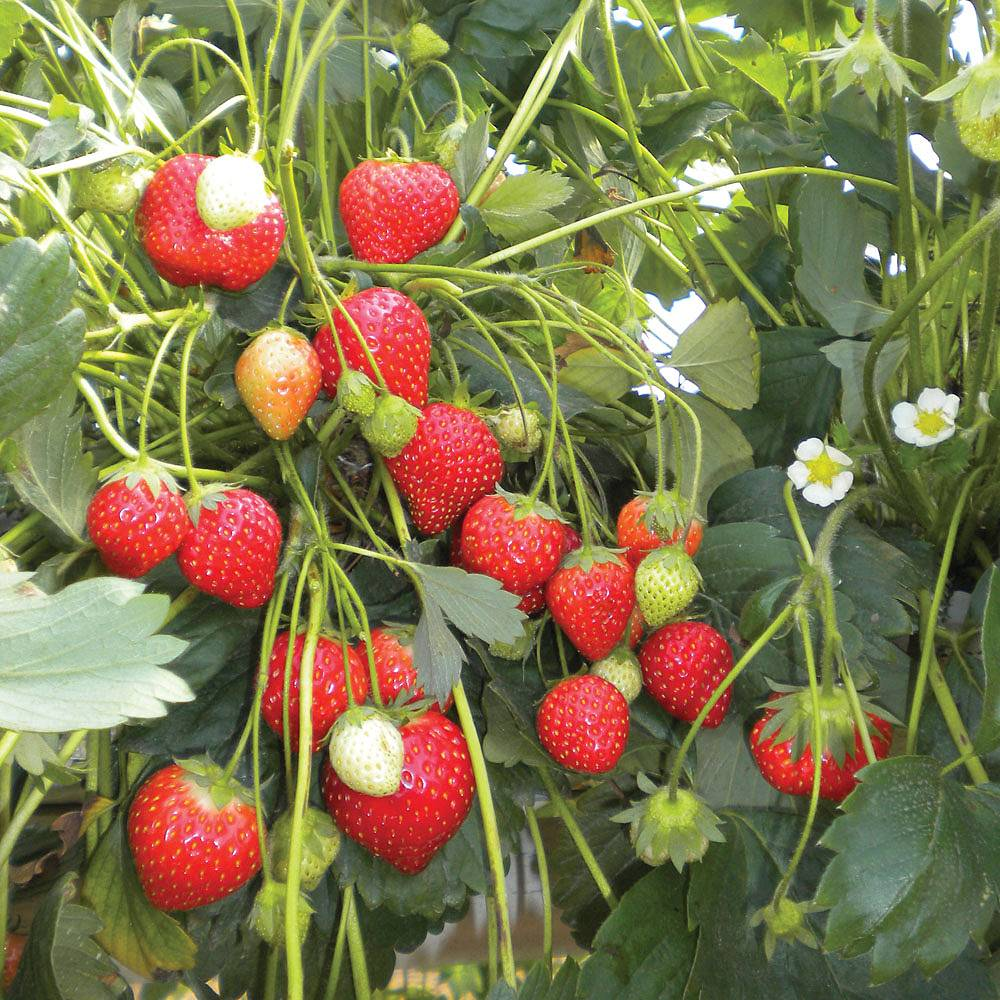ripe_strawberry: (330, 709, 479, 877), (128, 757, 268, 915), (139, 153, 291, 292), (751, 683, 897, 801), (391, 401, 507, 538), (259, 626, 370, 756), (337, 155, 463, 269), (315, 287, 433, 405), (174, 484, 283, 611), (86, 466, 187, 579), (458, 488, 565, 593), (544, 548, 635, 665), (534, 673, 632, 777), (640, 622, 733, 726), (354, 623, 458, 714), (615, 491, 707, 567), (513, 524, 580, 621)
unripe_strawberry: (229, 321, 324, 442), (628, 785, 720, 869), (328, 707, 402, 799), (270, 806, 345, 892), (195, 150, 269, 235), (635, 544, 703, 630), (951, 51, 1000, 166), (249, 884, 315, 957), (74, 151, 145, 216), (358, 394, 421, 460), (592, 648, 647, 705), (332, 368, 384, 419), (399, 21, 453, 70), (492, 406, 545, 454), (433, 120, 474, 171), (620, 317, 644, 346)
